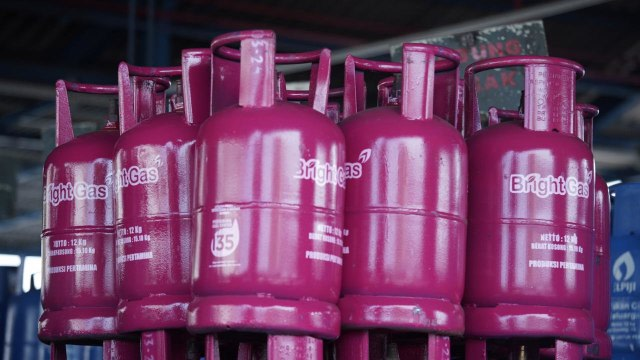bright_gas: (186, 28, 346, 335), (341, 45, 470, 338), (464, 54, 592, 343), (111, 49, 213, 327), (41, 79, 146, 338)
